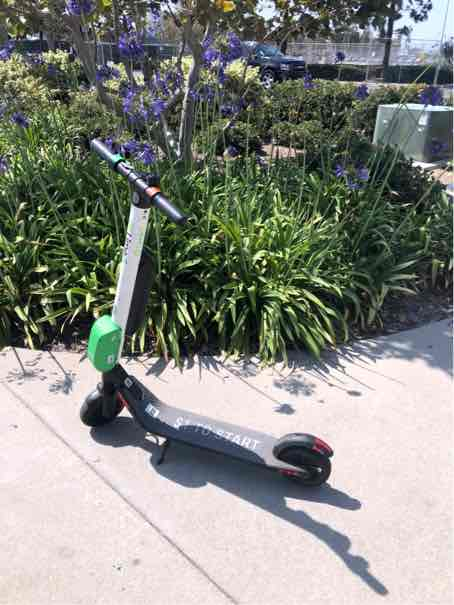scooter: (72, 135, 334, 495)
